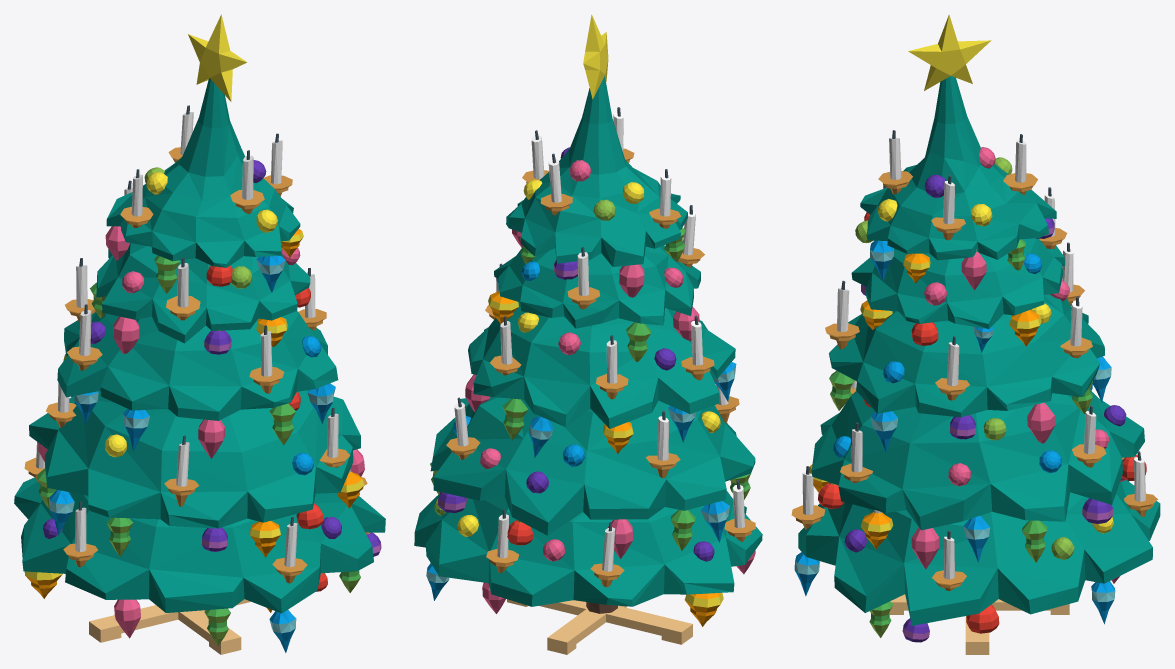
The model's file is christmas.glb.
The picture shows the model from 3 angles, left to right: view 1: azimuth 30°, elevation 25°; view 2: azimuth 150°, elevation 25°; view 3: azimuth 270°, elevation 25°; orthographic projection. The views are drawn at different scales.
Parts seen in each view (by area): view 1: group1356770401, group1533398606; view 2: group1356770401, group1533398606; view 3: group1356770401, group1533398606.
Boxes of the visible parts, x1,y1,x2,y2 form: group1356770401: [14, 78, 385, 654]; group1533398606: [188, 14, 246, 101]; group1356770401: [414, 76, 762, 654]; group1533398606: [583, 14, 608, 99]; group1356770401: [791, 76, 1160, 654]; group1533398606: [908, 14, 991, 90].
Bounding box in the file's own units: 2.53 × 4.62 × 2.54.
